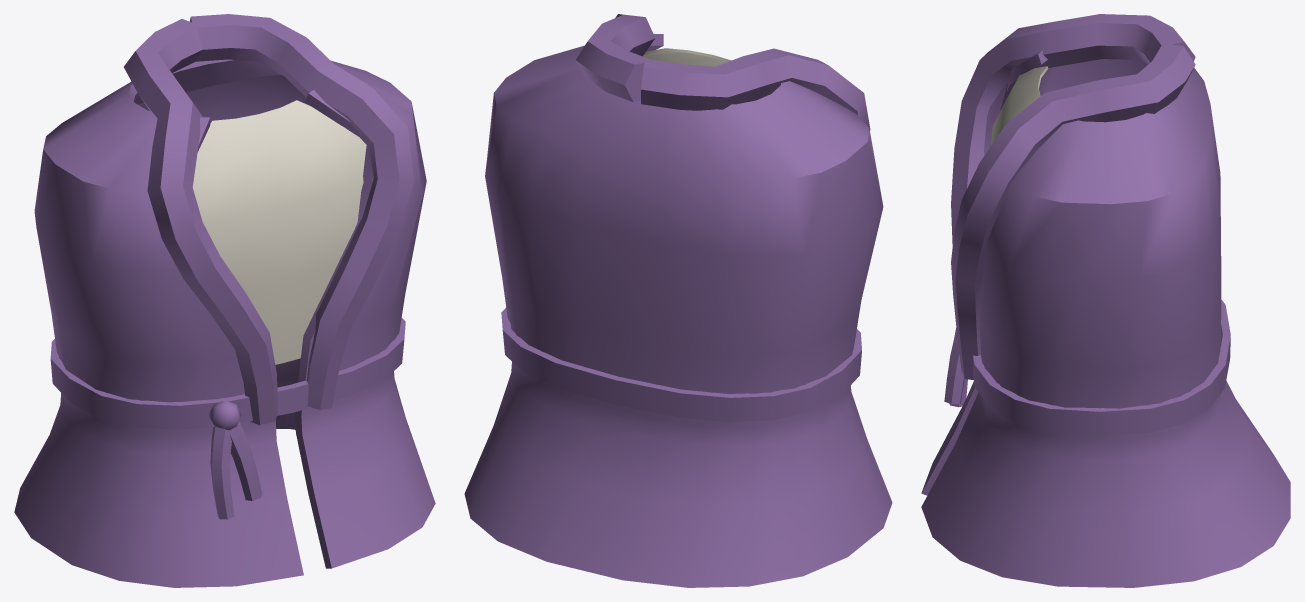
The model's file is Char_Top_Robe.fbx.
The picture shows the model from 3 angles, left to right: view 1: azimuth 30°, elevation 25°; view 2: azimuth 150°, elevation 25°; view 3: azimuth 270°, elevation 25°; orthographic projection.
Parts seen in each view (by area): view 1: Robe, Pajama; view 2: Robe, Pajama; view 3: Robe, Pajama.
Boxes of the visible parts, bbox=[...] form: Robe: bbox=[14, 14, 435, 587]; Pajama: bbox=[192, 100, 366, 364]; Robe: bbox=[464, 14, 892, 587]; Pajama: bbox=[643, 48, 731, 66]; Robe: bbox=[921, 14, 1290, 587]; Pajama: bbox=[990, 66, 1048, 146].
Size of the model in its own units: 183 by 224 by 163.
